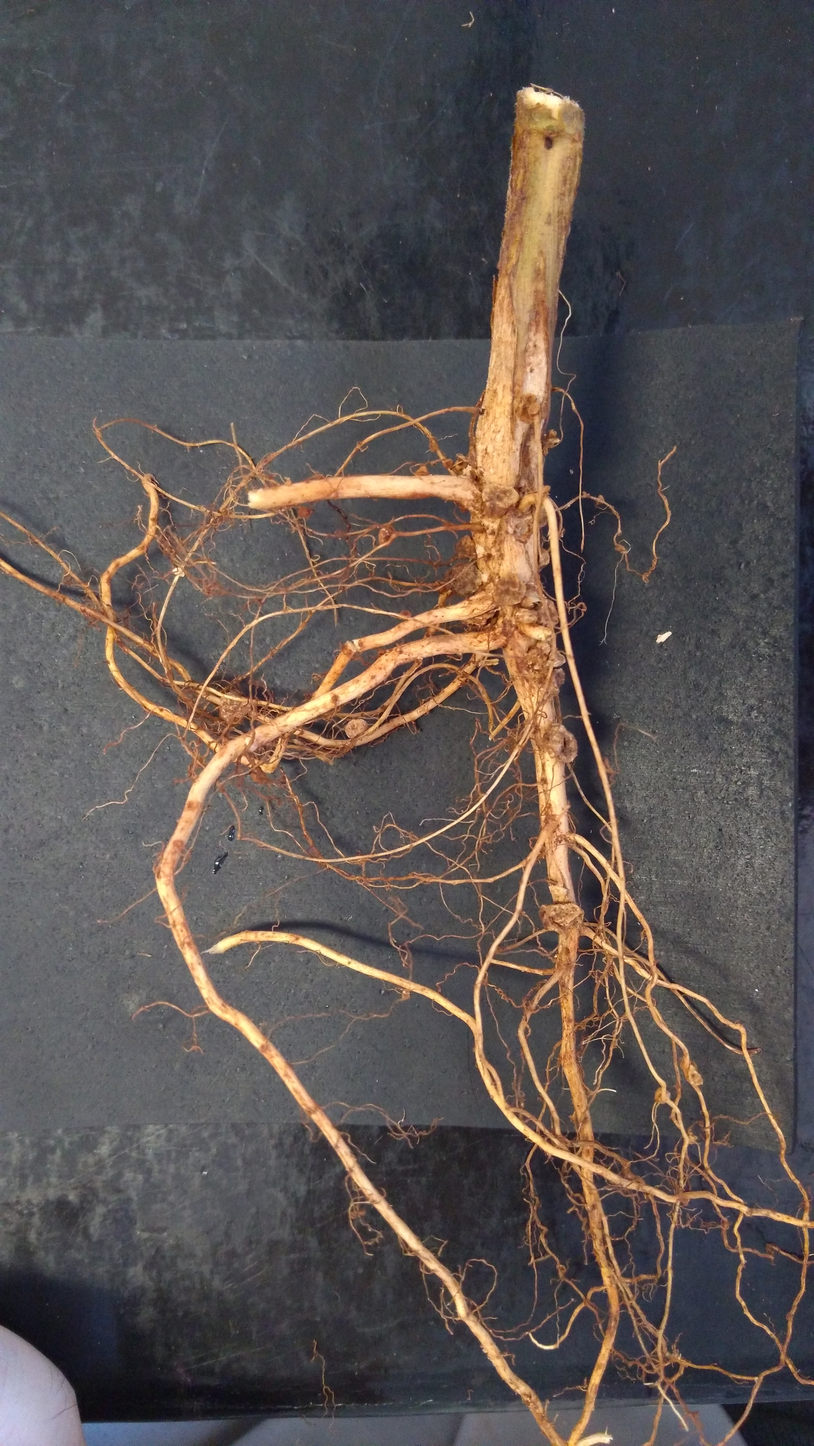nodule: (479, 476, 525, 524), (536, 901, 588, 936), (439, 559, 485, 598), (543, 717, 580, 765), (216, 689, 254, 728), (511, 389, 548, 426), (492, 573, 527, 609), (451, 532, 478, 562), (539, 425, 562, 458), (547, 667, 569, 697), (376, 523, 400, 550), (344, 717, 371, 741), (534, 542, 552, 576), (653, 1084, 677, 1108), (688, 1060, 705, 1090), (549, 648, 571, 669), (412, 462, 430, 477), (397, 608, 413, 621), (440, 457, 454, 471), (296, 506, 311, 518), (426, 440, 438, 454), (596, 493, 607, 507), (581, 488, 591, 498)
